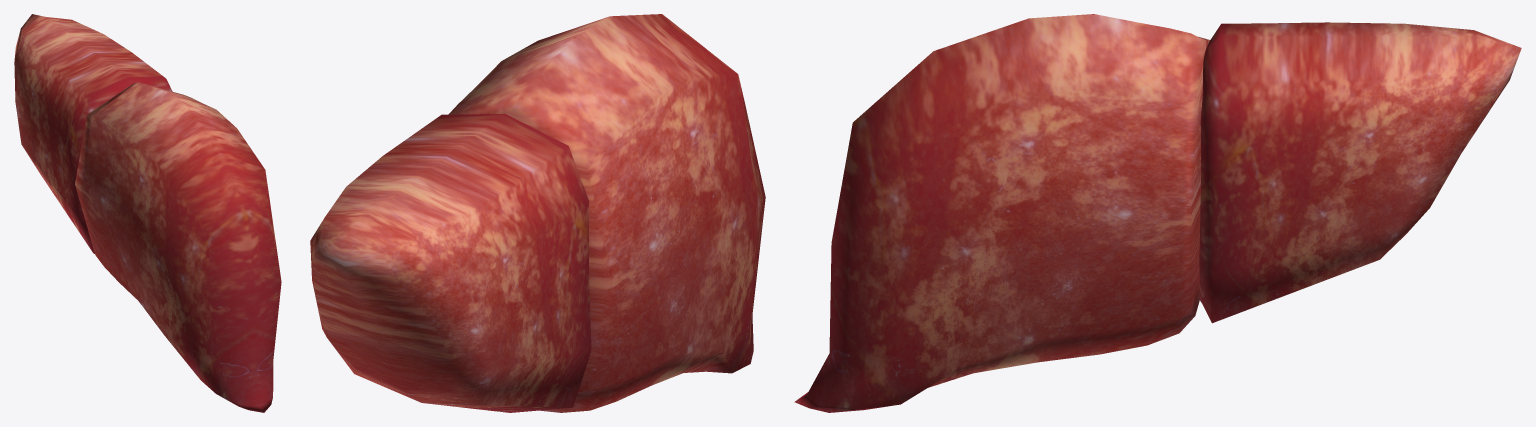
3 views of the same model, side by side, from view 1: azimuth 30°, elevation 25°; view 2: azimuth 150°, elevation 25°; view 3: azimuth 270°, elevation 25° (orthographic). The views are drawn at different scales.
Parts seen in each view (by area): view 1: pCube1, pCube2; view 2: pCube1, pCube2; view 3: pCube1, pCube2.
Part boxes in pixels (left/top/right/bottom): pCube1: left=75, top=82, right=281, bottom=412; pCube2: left=14, top=14, right=172, bottom=253; pCube1: left=448, top=14, right=765, bottom=412; pCube2: left=310, top=113, right=591, bottom=412; pCube1: left=794, top=14, right=1209, bottom=412; pCube2: left=1199, top=22, right=1521, bottom=323.
Size of the model in its own units: 0.6262 by 1.32 by 2.22.
1 material, 1 textured.
